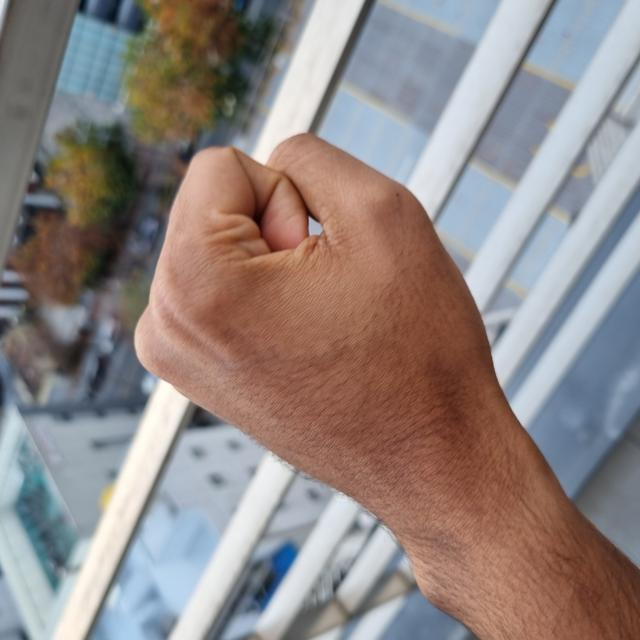Rock: (117, 135, 508, 499)
